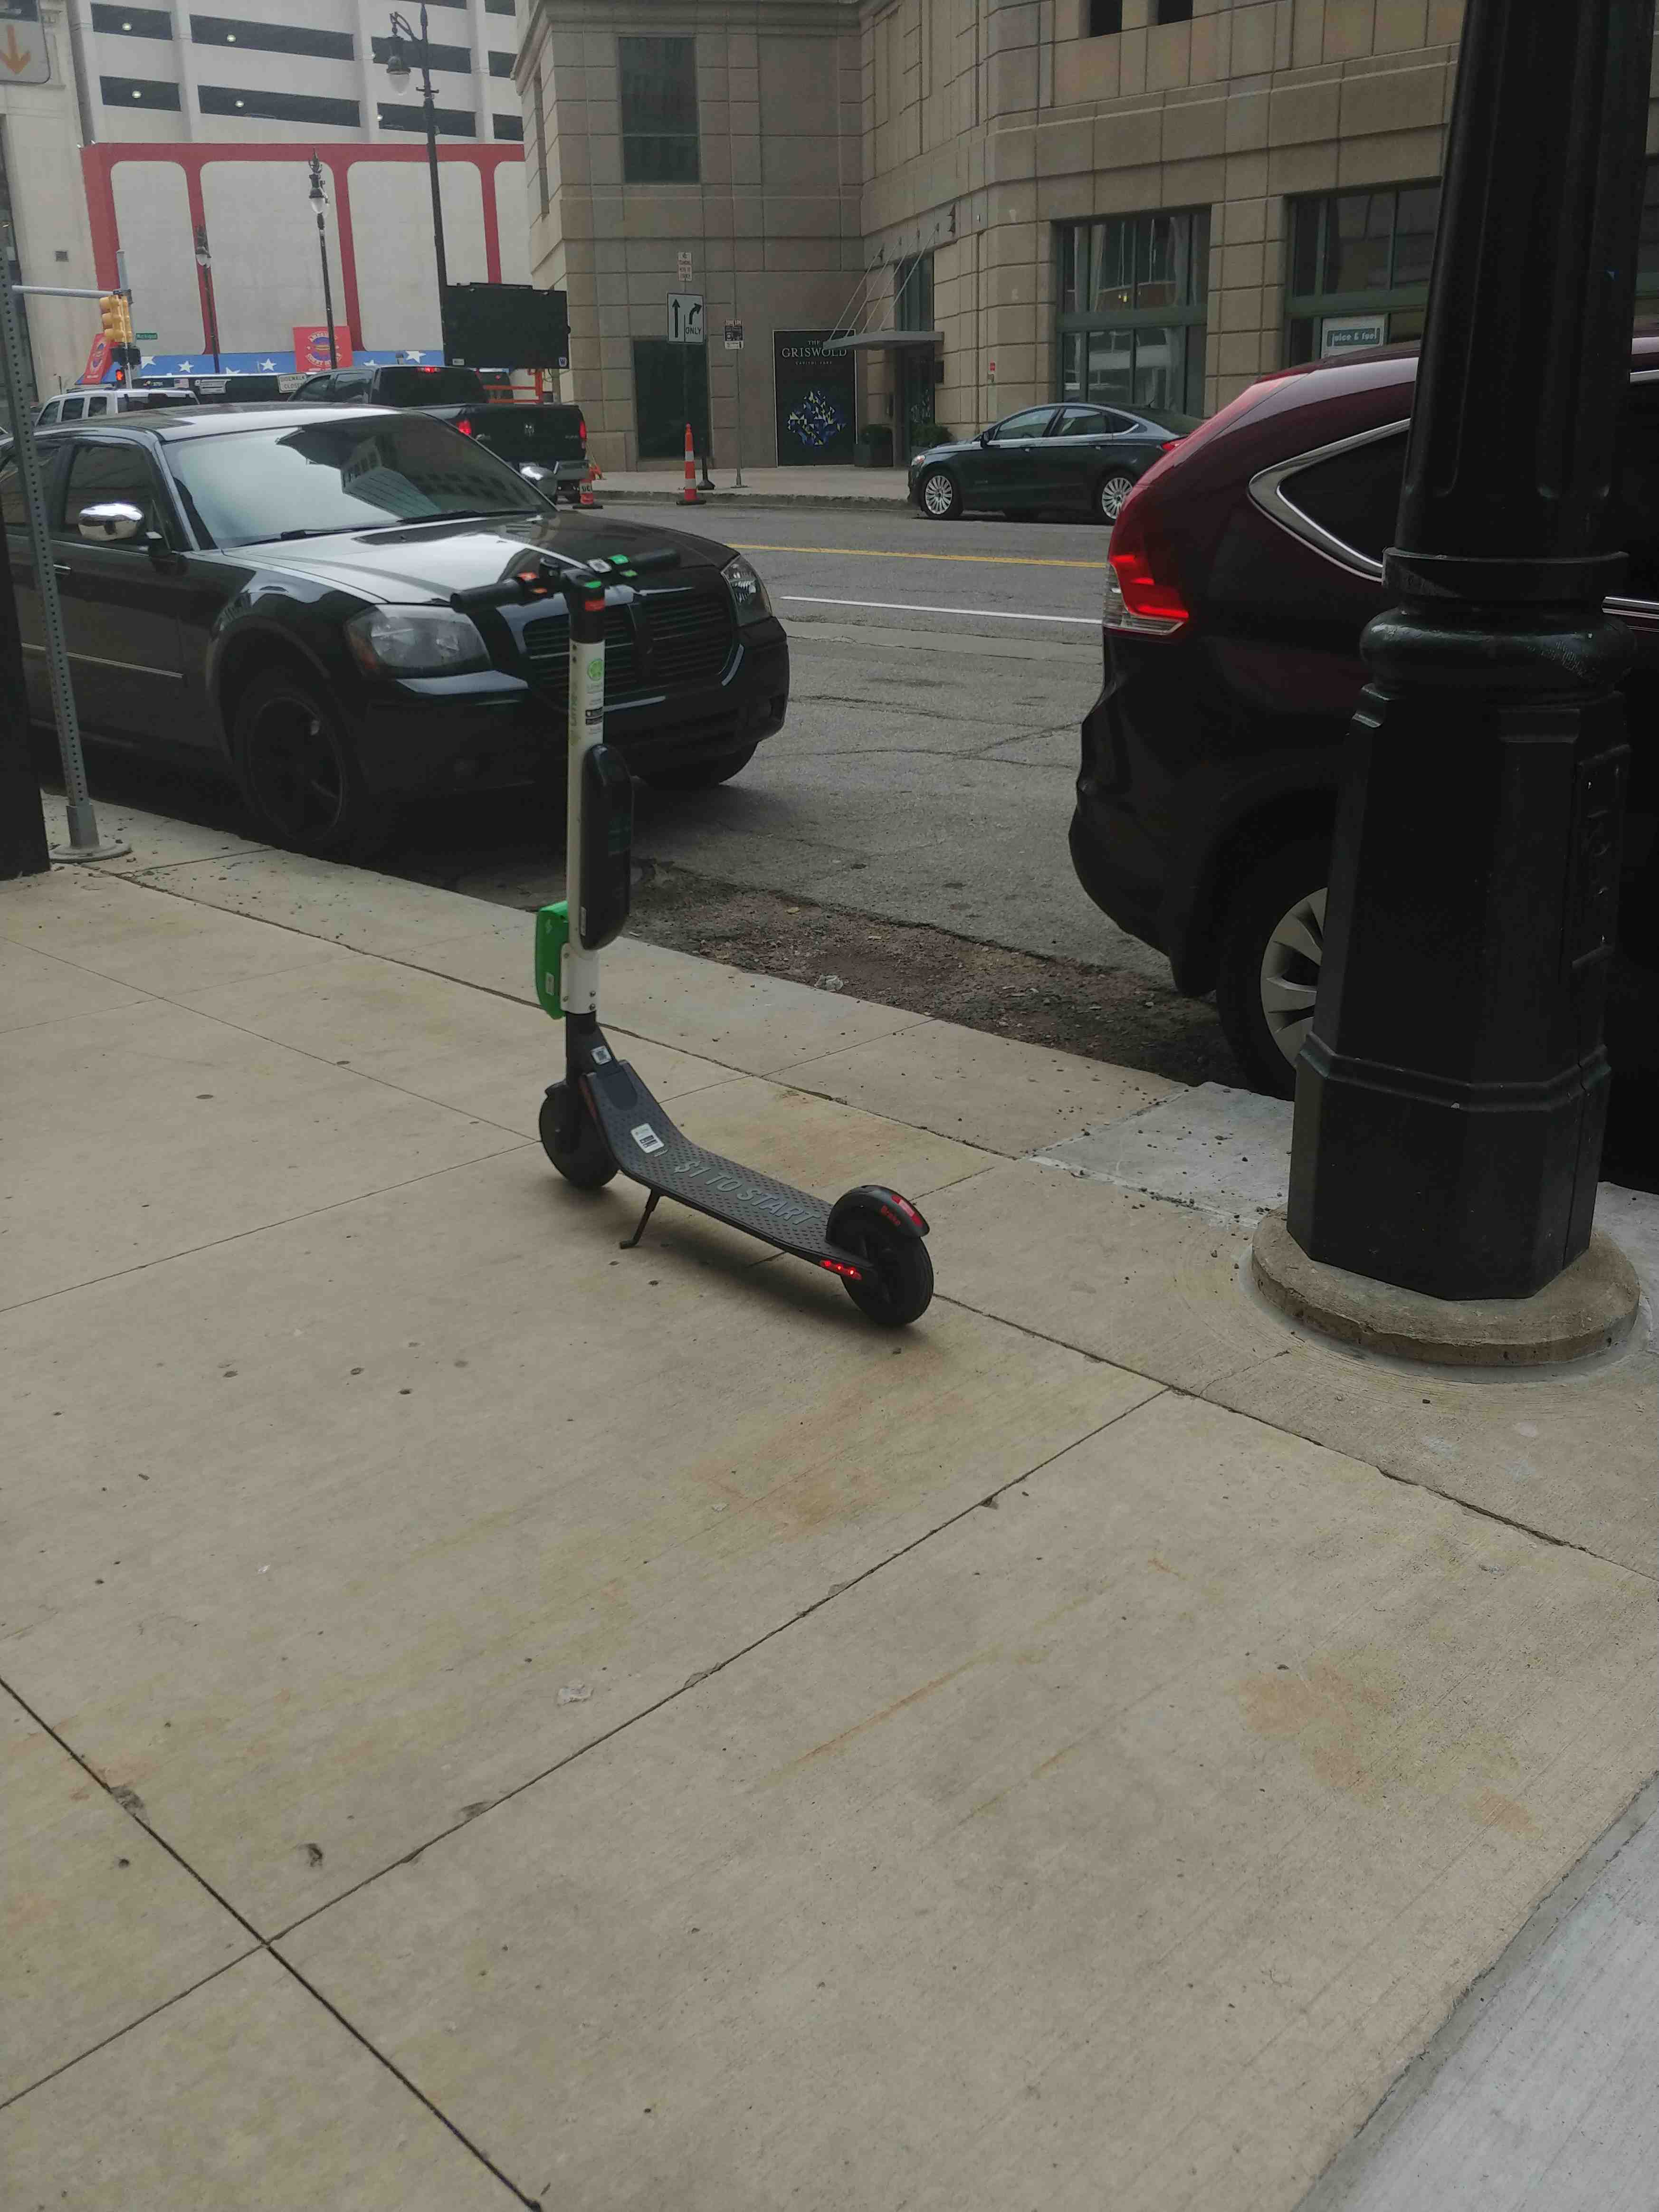scooter: (408, 571, 941, 1327)
